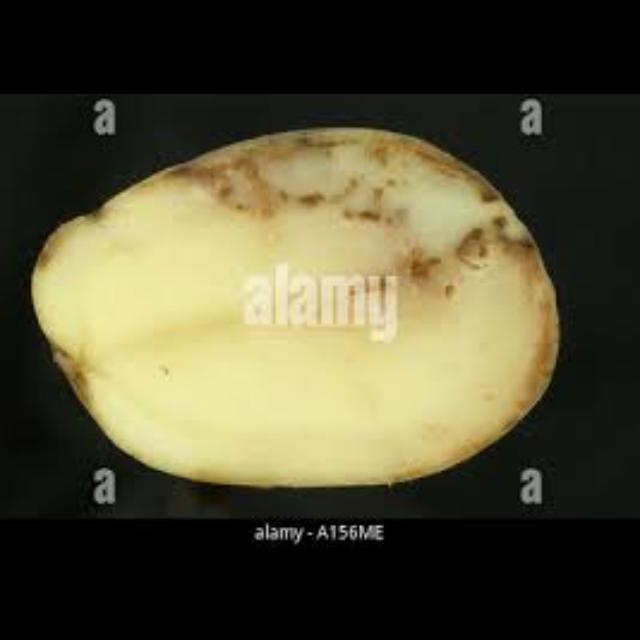Diseased-fungal potato: (29, 127, 575, 496)
